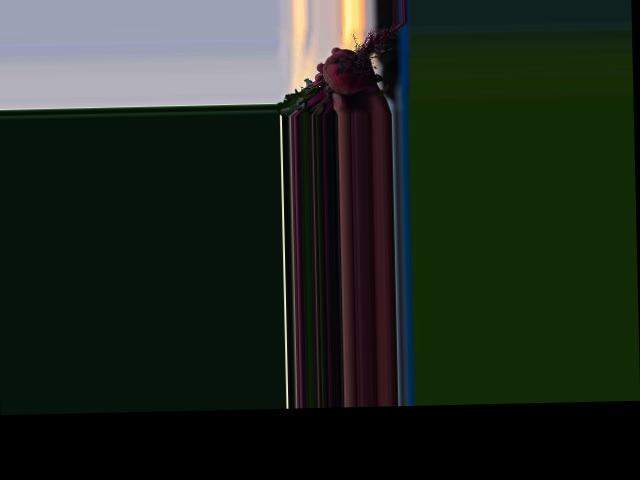beet: (275, 21, 407, 115)
